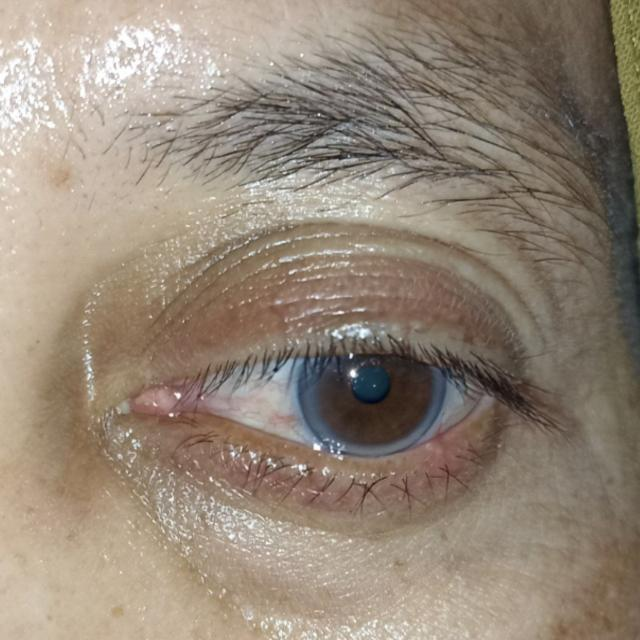Normal: (300, 317, 440, 456)
